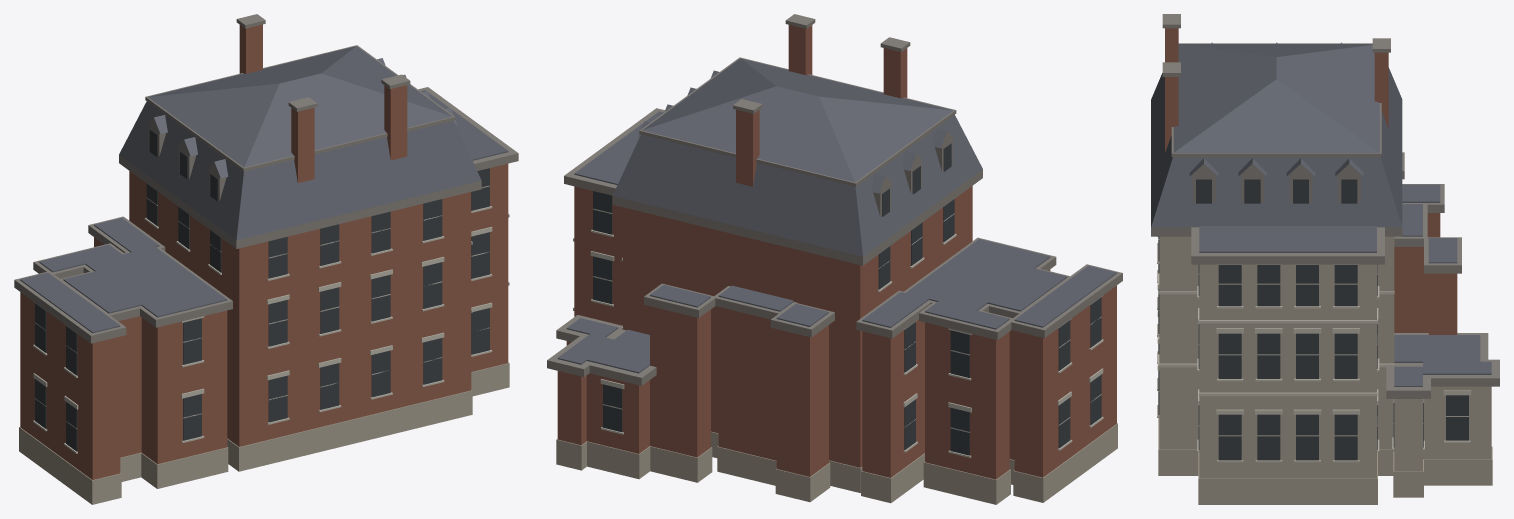
File: armour_house_2115_prairie__draft_1904.glb
3 views of the same model, side by side, from view 1: azimuth 30°, elevation 25°; view 2: azimuth 150°, elevation 25°; view 3: azimuth 270°, elevation 25° (orthographic). The views are drawn at different scales.
Parts seen in each view (by area): view 1: armour_house_2115_prairie__draft_1904; view 2: armour_house_2115_prairie__draft_1904; view 3: armour_house_2115_prairie__draft_1904.
Boxes of the visible parts, box(x1,y1,x2,y2) form: armour_house_2115_prairie__draft_1904: box(14, 14, 518, 504); armour_house_2115_prairie__draft_1904: box(547, 14, 1122, 504); armour_house_2115_prairie__draft_1904: box(1151, 14, 1499, 504).
Bounding box in the file's own units: 23.8 × 17.86 × 15.2.
